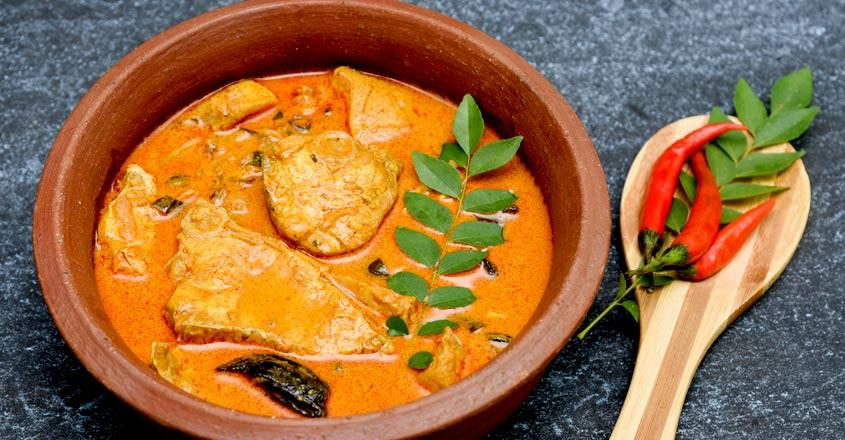FishCurry: (90, 66, 552, 425)
